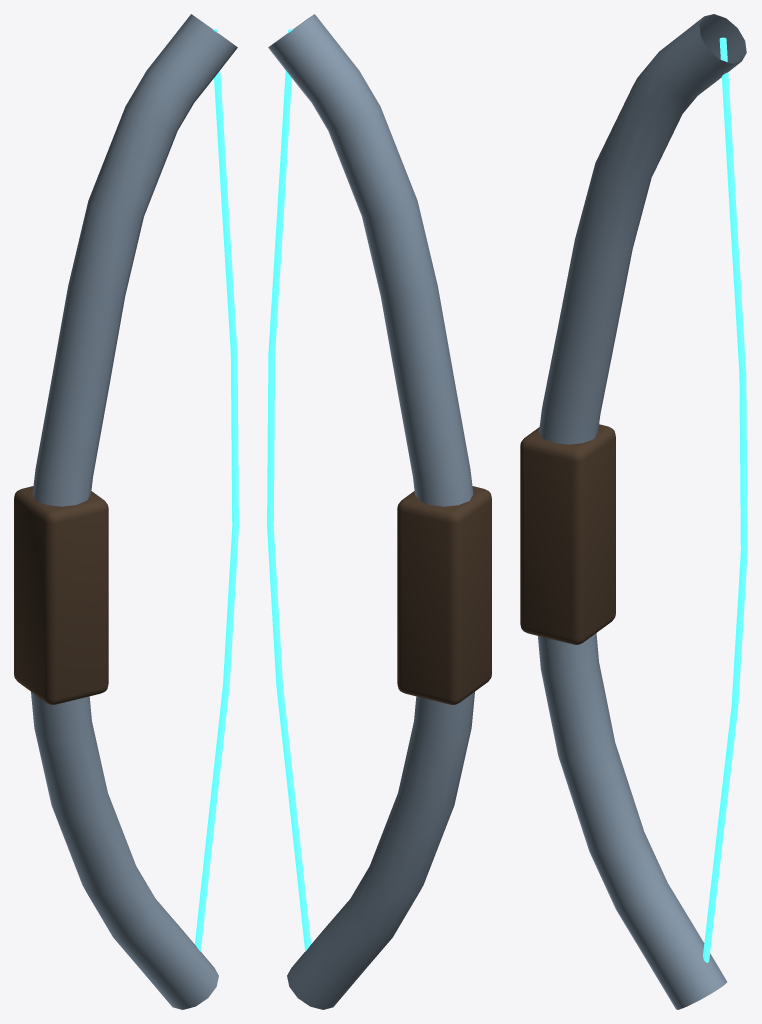
The model's file is bow_v5.glb.
3 views of the same model, side by side, from view 1: azimuth 30°, elevation 25°; view 2: azimuth 150°, elevation 25°; view 3: azimuth 330°, elevation 25° (orthographic).
Parts seen in each view (by area): view 1: GREATBOW_PRIMARY, GREATBOW_GRIP_SECONDARY, GREATBOW_STRING_EMISSIVE; view 2: GREATBOW_PRIMARY, GREATBOW_GRIP_SECONDARY, GREATBOW_STRING_EMISSIVE; view 3: GREATBOW_PRIMARY, GREATBOW_GRIP_SECONDARY, GREATBOW_STRING_EMISSIVE.
Part boxes in pixels (box(x1,y1,x2,y2)): GREATBOW_PRIMARY: box(31, 14, 237, 1009); GREATBOW_GRIP_SECONDARY: box(14, 486, 108, 704); GREATBOW_STRING_EMISSIVE: box(195, 29, 238, 951); GREATBOW_PRIMARY: box(268, 14, 474, 1009); GREATBOW_GRIP_SECONDARY: box(397, 486, 491, 704); GREATBOW_STRING_EMISSIVE: box(267, 29, 310, 951); GREATBOW_PRIMARY: box(538, 14, 746, 1009); GREATBOW_GRIP_SECONDARY: box(520, 424, 615, 644); GREATBOW_STRING_EMISSIVE: box(703, 37, 747, 962).
Size of the model in its own units: 0.994 by 4.48 by 0.32.
